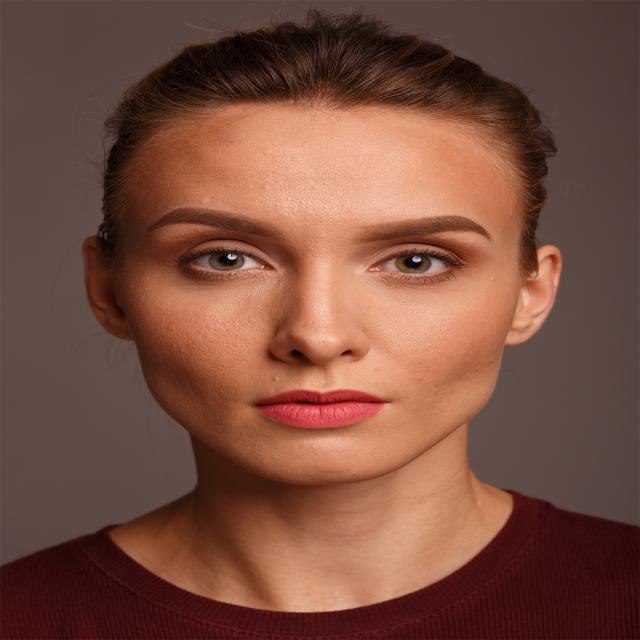earlobe: (503, 245, 563, 348), (81, 236, 136, 341)
